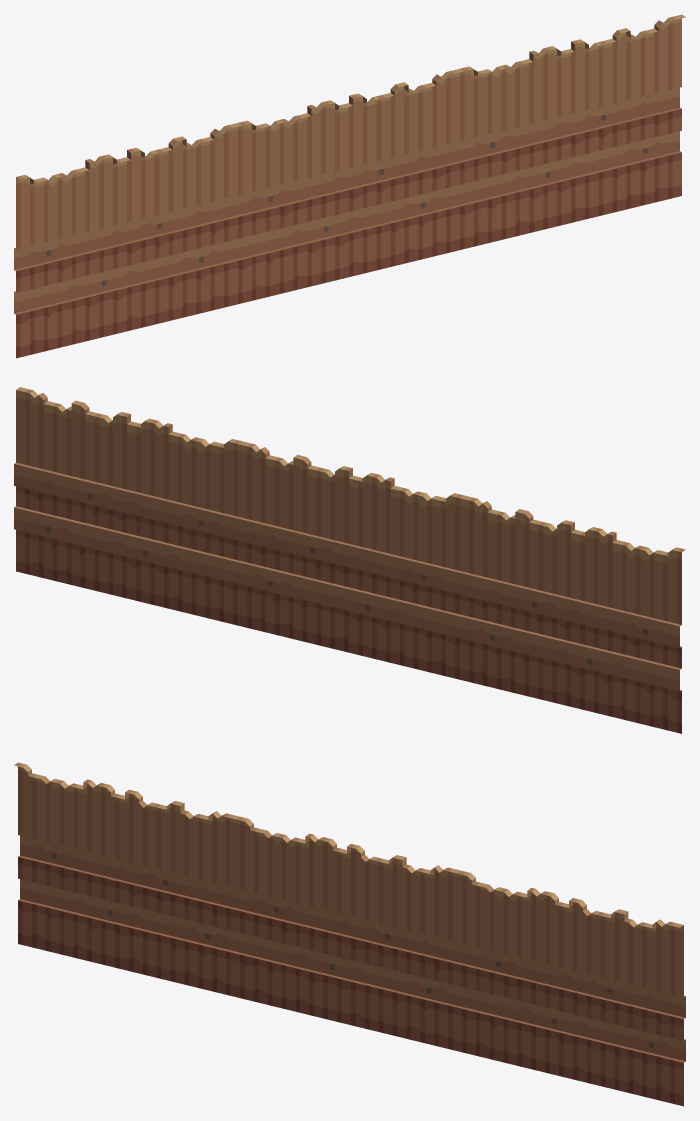
The model's file is fence.glb.
The picture shows the model from 3 angles, top to bottom: view 1: azimuth 30°, elevation 25°; view 2: azimuth 150°, elevation 25°; view 3: azimuth 330°, elevation 25°; orthographic projection.
Parts seen in each view (by area): view 1: fenceBoard (×48); view 2: fenceBoard (×48); view 3: fenceBoard (×48).
Boxes of the visible parts, x1,y1,x2,y2 form: fenceBoard (×48): (14, 14, 685, 358); fenceBoard (×48): (14, 387, 685, 733); fenceBoard (×48): (14, 762, 685, 1106).
Bounding box in the file's own units: 12 × 3.12 × 0.1875.
1 material, 1 textured.
